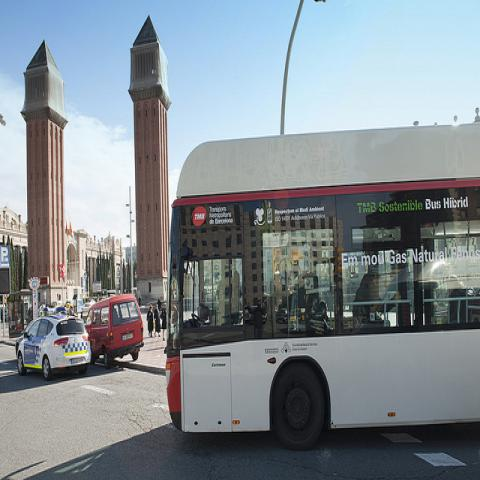bus: (166, 120, 479, 452)
car: (17, 316, 91, 382), (81, 298, 96, 319)
truck: (86, 296, 143, 368)
